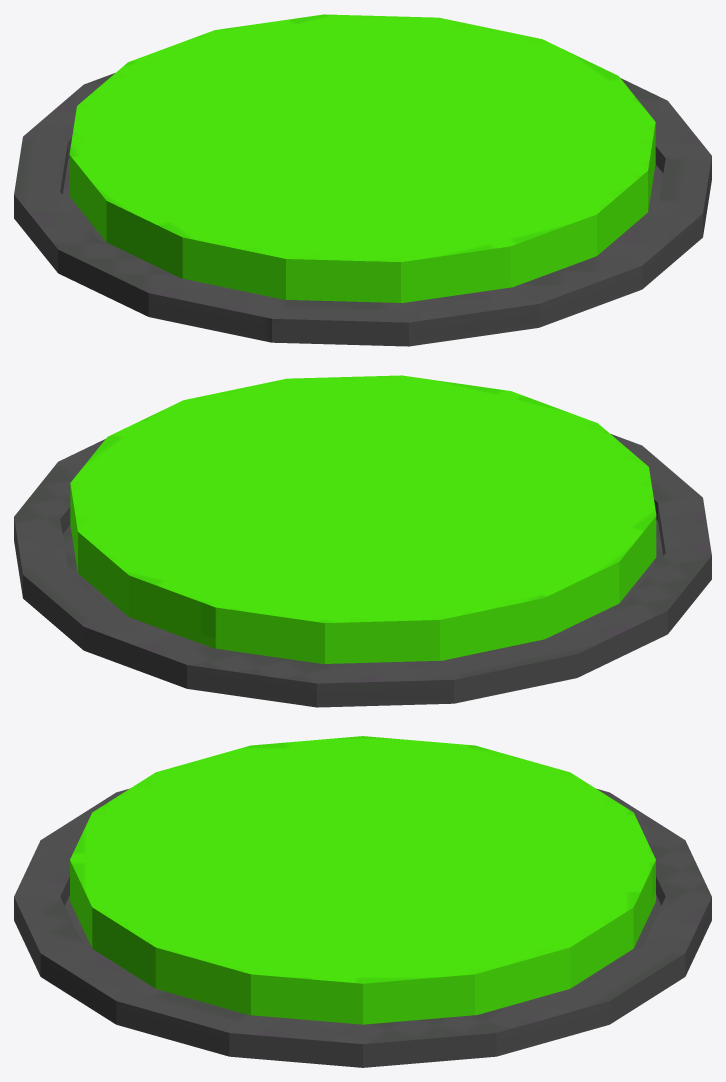
File: ButtonON.fbx
3 renders of one model, top to bottom at view 1: azimuth 30°, elevation 25°; view 2: azimuth 150°, elevation 25°; view 3: azimuth 270°, elevation 25°, orthographic.
Parts seen in each view (by area): view 1: Cylinder.002, ButtonBase; view 2: Cylinder.002, ButtonBase; view 3: Cylinder.002, ButtonBase.
Part boxes in pixels (x1=…): Cylinder.002: x1=69, y1=14, x2=655, y2=302; ButtonBase: x1=14, y1=73, x2=711, y2=346; Cylinder.002: x1=70, y1=375, x2=656, y2=663; ButtonBase: x1=14, y1=434, x2=711, y2=707; Cylinder.002: x1=70, y1=736, x2=655, y2=1024; ButtonBase: x1=14, y1=788, x2=711, y2=1067.
Bounding box in the file's own units: 180 × 17.17 × 180.
